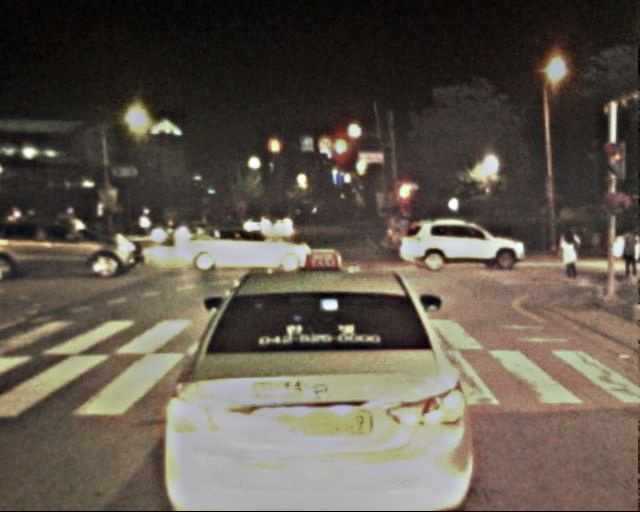person: (562, 227, 586, 283), (617, 228, 639, 286)
